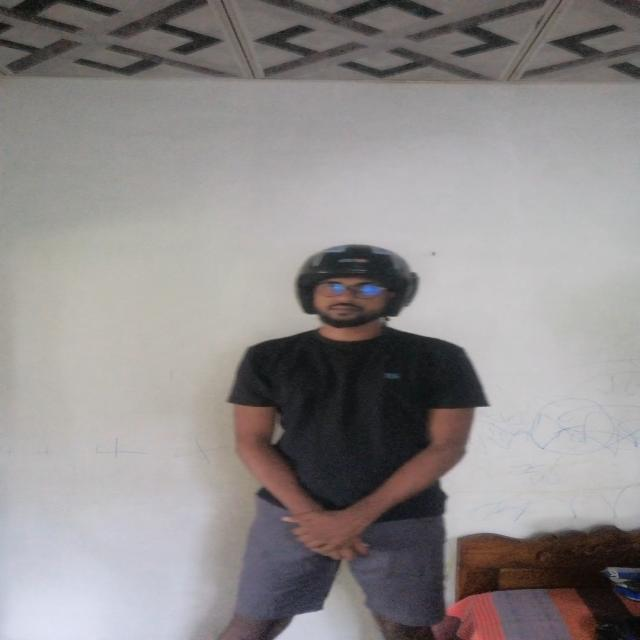Helmet_Wearer: (253, 239, 440, 346)
Person: (222, 243, 476, 640)
